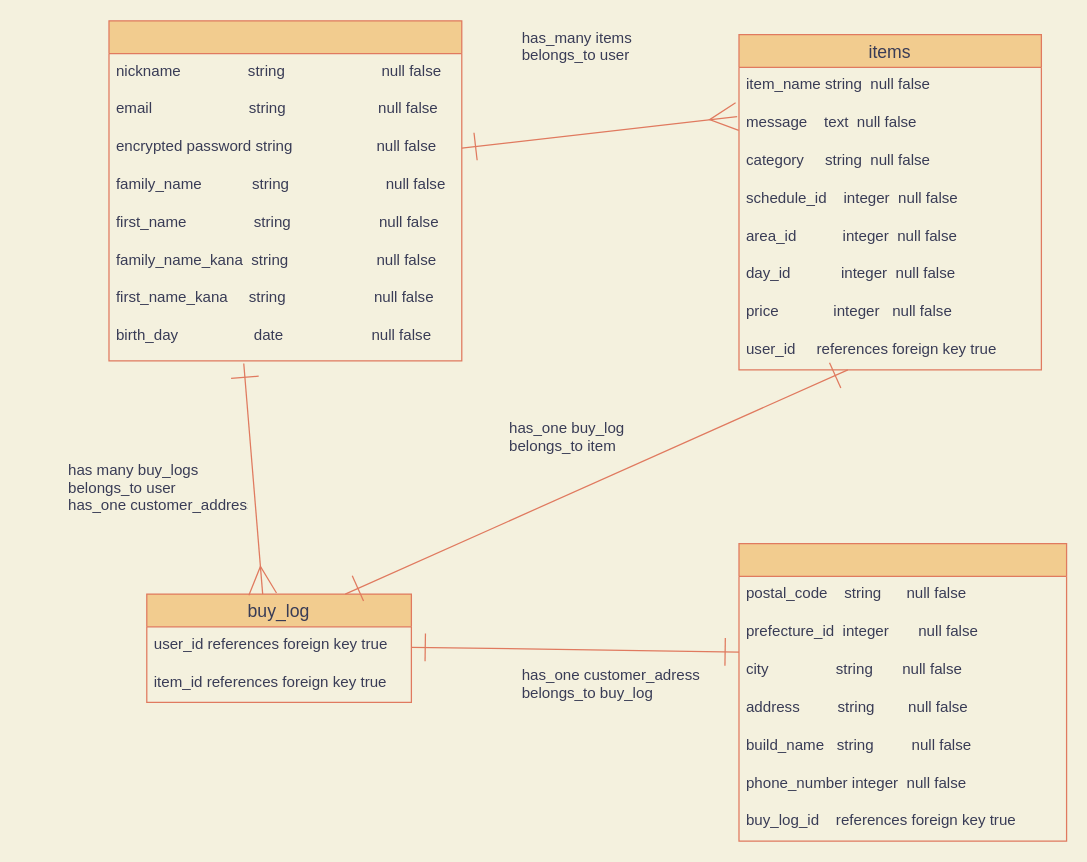
This 1087x862 diagram has some shape labels left out. Here are the shapes that lost their labels. From the top down, the box of each, then its label:
(108, 20, 462, 361): users
(738, 542, 1067, 841): customer_address
